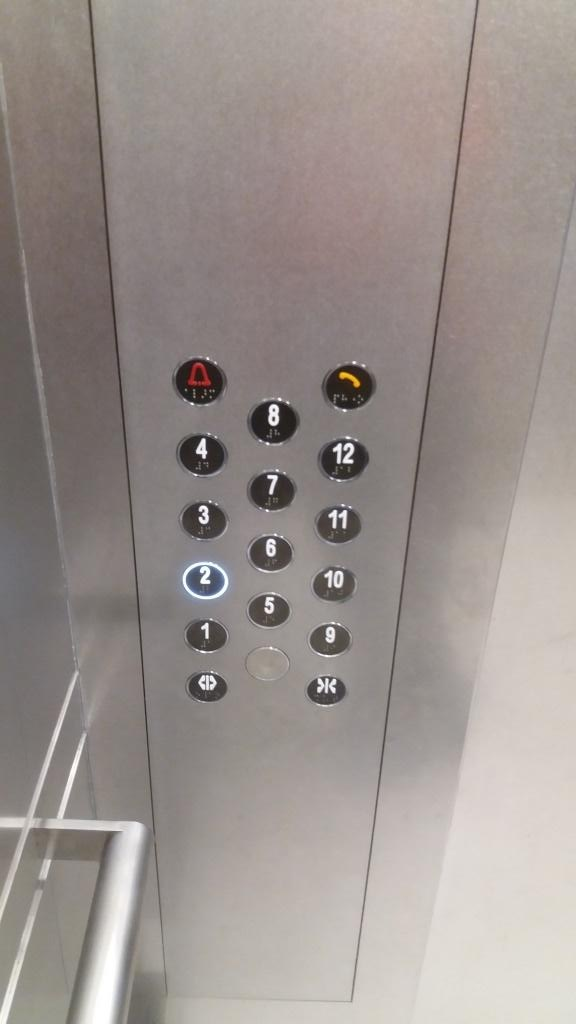1: (180, 614, 231, 658)
10: (311, 558, 361, 610)
11: (313, 494, 366, 549)
12: (319, 430, 372, 485)
2: (180, 557, 234, 602)
3: (176, 497, 230, 542)
4: (178, 428, 231, 483)
5: (244, 590, 293, 633)
6: (244, 528, 299, 579)
7: (244, 465, 299, 516)
8: (246, 396, 301, 447)
9: (304, 618, 355, 662)
alarm: (171, 352, 230, 411)
call: (319, 353, 381, 418)
close: (301, 670, 350, 713)
empty: (241, 644, 293, 686)
open: (181, 666, 230, 709)
